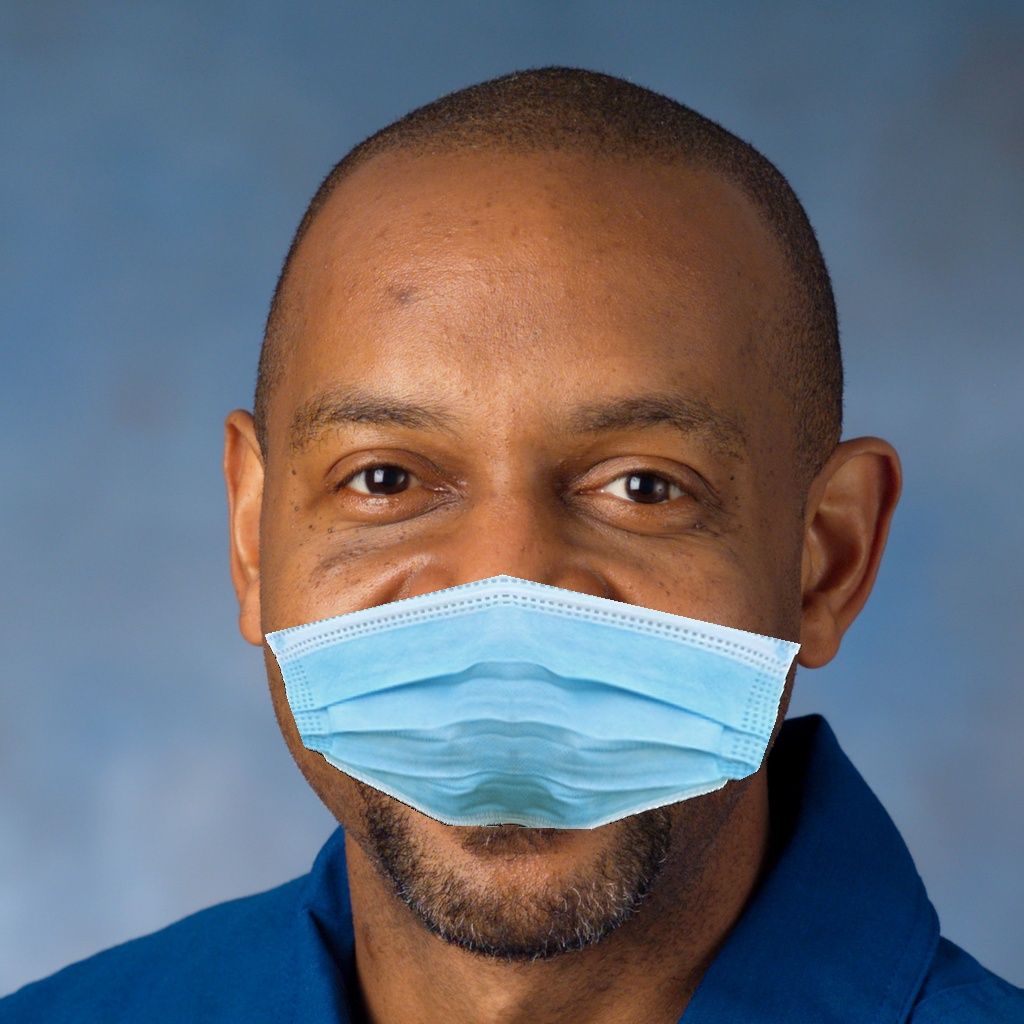mask_weared_incorrect: (228, 357, 848, 938)
